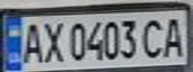0: (66, 19, 87, 62), (103, 17, 121, 61)
3: (118, 17, 142, 60)
4: (84, 18, 106, 62)
A: (160, 14, 190, 58), (18, 19, 45, 64)
C: (139, 16, 169, 60)
X: (39, 18, 66, 64)
